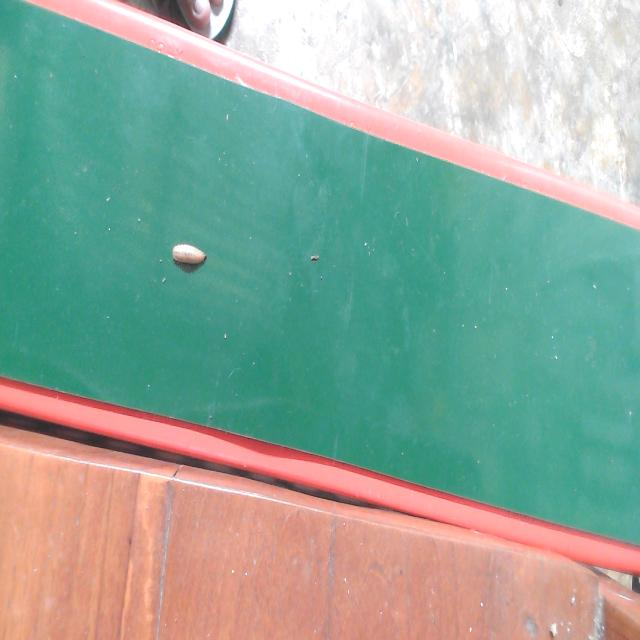Maggot: (170, 242, 207, 274)
